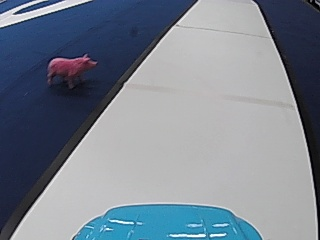pig: (44, 51, 97, 88)
